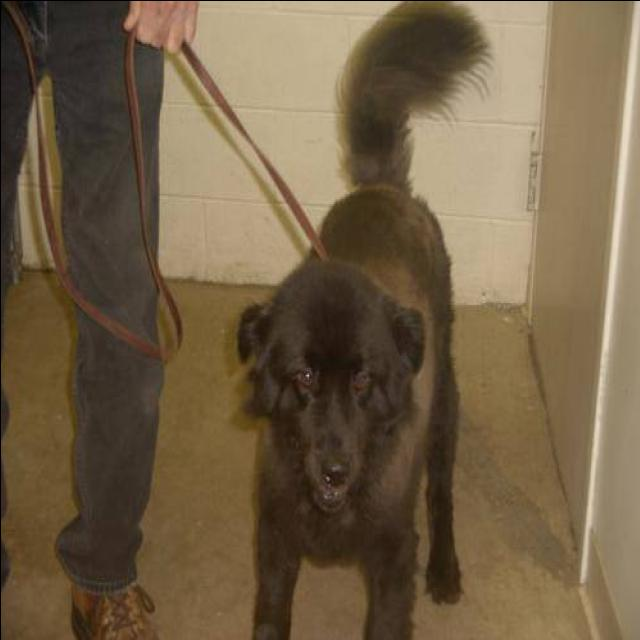dog: (214, 0, 516, 640)
